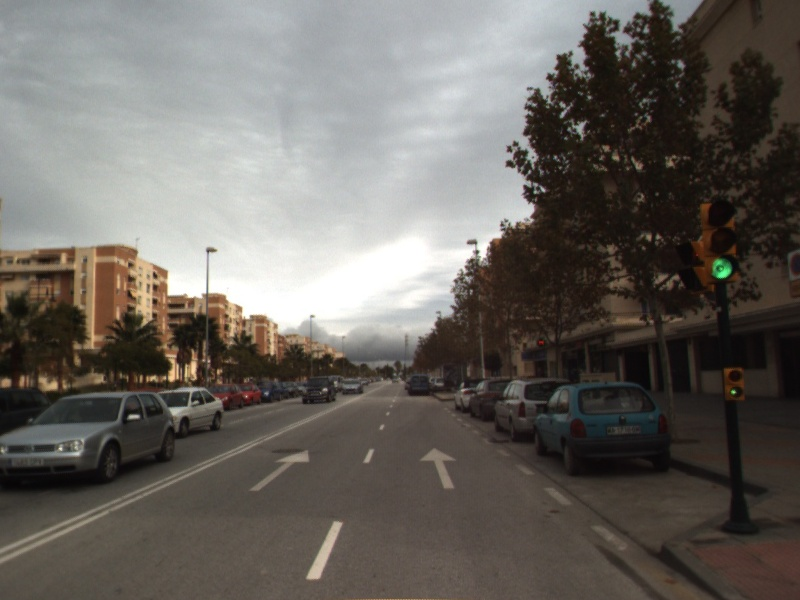STRAIGHT: (247, 448, 312, 493), (417, 445, 459, 490)
